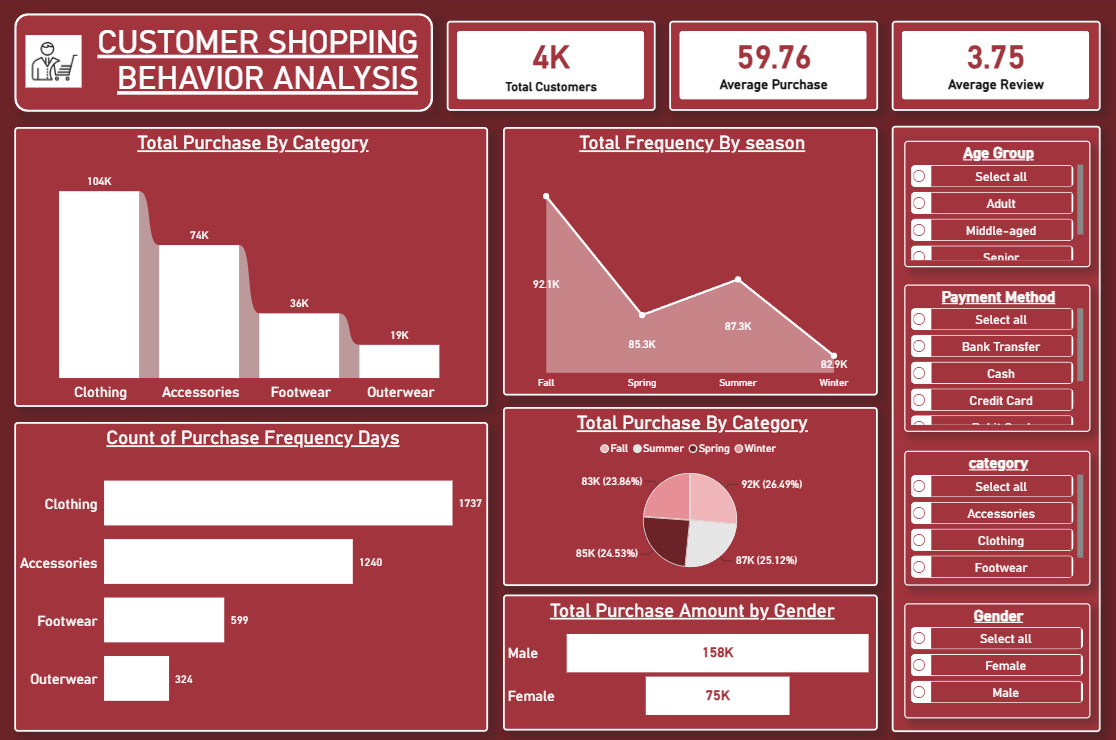

What the dashboard file says about the page in this screenshot:
{"tool":"powerbi","page":{"name":"Customer_shopping_behavior_analysis","canvas":[1500,1000],"ordinal":0},"visuals":[{"type":"shape","box":[21.7,21.1,561.3,132.4],"z":0},{"type":"cardVisual","fields":{"Data":["customer_shopping_behavior.number_of_customers"]},"box":[601.5,31.8,279.8,120.6],"z":1000},{"type":"textbox","box":[50.3,30.2,517.8,110.6],"z":2000},{"type":"cardVisual","fields":{"Data":["customer_shopping_behavior.Average_purchae"]},"box":[899.8,31.8,279.8,120.6],"z":3000},{"type":"cardVisual","fields":{"Data":["customer_shopping_behavior.Average_review"]},"box":[1198.1,31.8,279.8,120.6],"z":4000},{"type":"shape","box":[1198.1,172.6,279.8,812.7],"z":5000},{"type":"listSlicer","fields":{"Values":["customer_shopping_behavior.Age Group"]},"box":[1214.8,192.7,249.7,169.2],"z":6000},{"type":"listSlicer","fields":{"Values":["customer_shopping_behavior.payment_method"]},"box":[1214.8,385.4,249.7,197.7],"z":7000},{"type":"listSlicer","fields":{"Values":["customer_shopping_behavior.gender"]},"box":[1214.8,812.7,249.7,154.2],"z":8000},{"type":"listSlicer","fields":{"Values":["customer_shopping_behavior.category"]},"box":[1214.8,608.2,249.7,181],"z":9000},{"type":"columnChart","title":"Total Purchase By Category","fields":{"Y":["Sum(customer_shopping_behavior.purchase_amount)"],"Category":["customer_shopping_behavior.category"]},"box":[21.8,173.5,635.1,375.3],"z":10000},{"type":"barChart","title":"Count of Purchase Frequency Days","fields":{"Category":["customer_shopping_behavior.category"],"Y":["CountNonNull(customer_shopping_behavior.Purchase_frequency_days.1)"]},"box":[21.8,569.7,635.1,415.6],"z":11000},{"type":"pieChart","title":"Total Purchase By Category","fields":{"Category":["customer_shopping_behavior.season"],"Y":["Sum(customer_shopping_behavior.Purchase_frequency_days.1)"]},"box":[676.9,549.6,502.7,239.6],"z":12000},{"type":"funnel","title":"Total  Purchase Amount by Gender","fields":{"Y":["Sum(customer_shopping_behavior.purchase_amount)"],"Category":["customer_shopping_behavior.gender"]},"box":[676.9,800.9,502.7,182.6],"z":13000},{"type":"stackedAreaChart","title":"Total Frequency By season","fields":{"Category":["customer_shopping_behavior.category","customer_shopping_behavior.Age Group","customer_shopping_behavior.season"],"Y":["Sum(customer_shopping_behavior.Purchase_frequency_days.1)"]},"box":[676.9,174.3,502.7,360.3],"z":14000},{"type":"image","box":[36.9,48.6,75.4,75.4],"z":14001}]}

Visuals, with their boxes in screenshot pixels (x1, y1, x2, y2), scaled from the page's 1500x1000 canvas onto the 1116x740 screenshot:
shape: 16/16/434/114
cardVisual - customer_shopping_behavior.number_of_customers: 448/24/656/113
textbox: 37/22/423/104
cardVisual - customer_shopping_behavior.Average_purchae: 669/24/878/113
cardVisual - customer_shopping_behavior.Average_review: 891/24/1100/113
shape: 891/128/1100/729
listSlicer - customer_shopping_behavior.Age Group: 904/143/1090/268
listSlicer - customer_shopping_behavior.payment_method: 904/285/1090/431
listSlicer - customer_shopping_behavior.gender: 904/601/1090/716
listSlicer - customer_shopping_behavior.category: 904/450/1090/584
"Total Purchase By Category" columnChart: 16/128/489/406
"Count of Purchase Frequency Days" barChart: 16/422/489/729
"Total Purchase By Category" pieChart: 504/407/878/584
"Total  Purchase Amount by Gender" funnel: 504/593/878/728
"Total Frequency By season" stackedAreaChart: 504/129/878/396
image: 27/36/84/92
